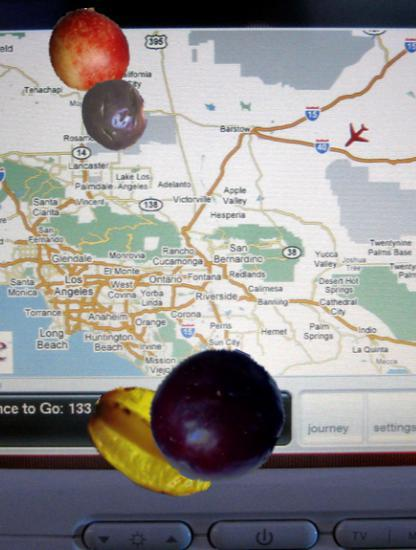Carambula: (83, 372, 225, 514)
Nectarine: (46, 8, 132, 94)
Passion: (78, 78, 153, 153)
Plum: (148, 347, 286, 485)
